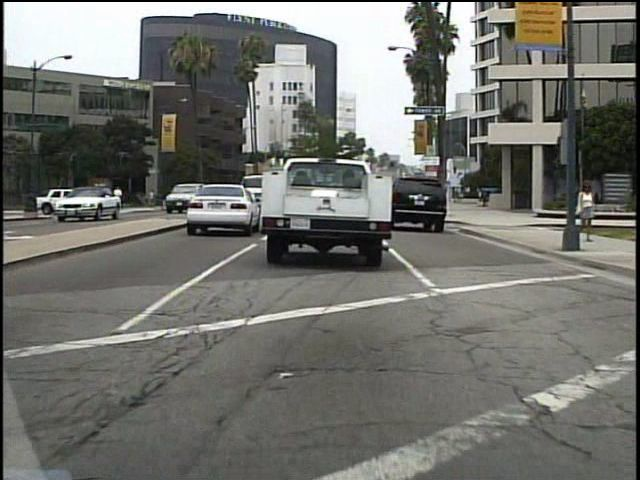person: (575, 175, 596, 247), (108, 181, 123, 214), (106, 189, 121, 220), (149, 188, 158, 209)
